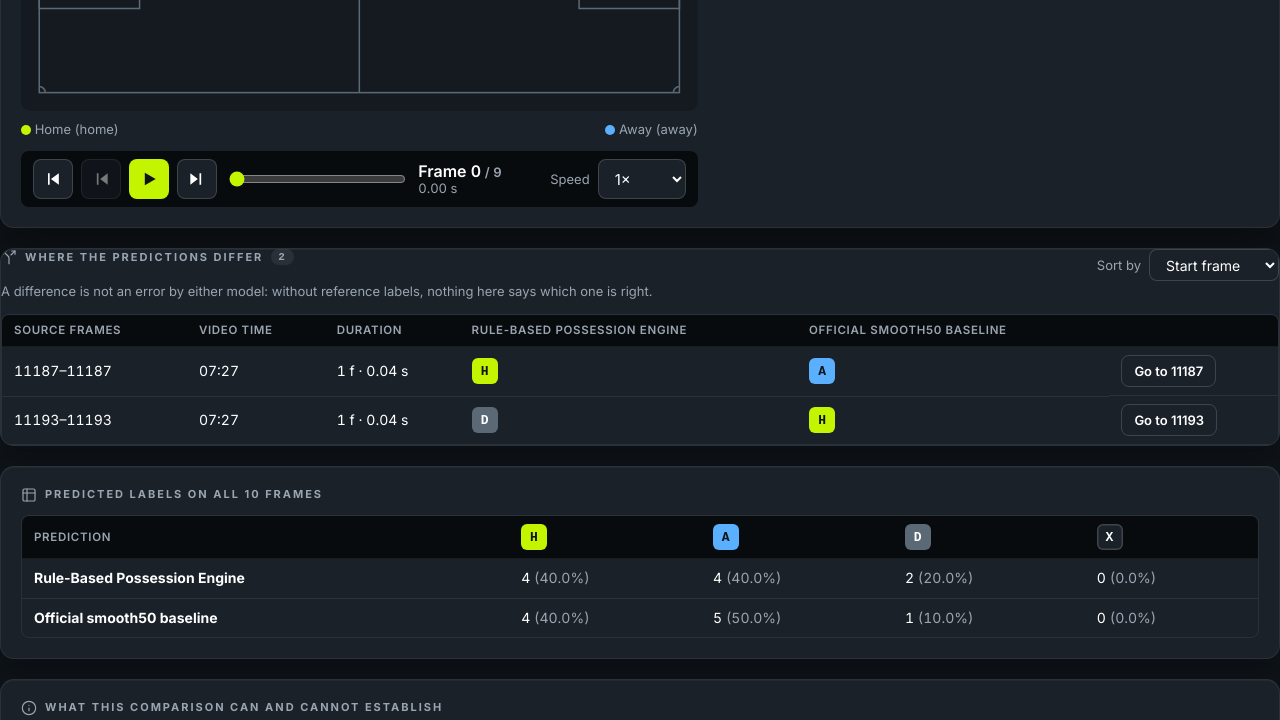
Test: local model-to-model comparison › compares the two predictions on the same frames without any accuracy or F1
(page scrolled)
Click the button with aria-label "Go to source frame 11193".
click(1169, 420)  # box x1=1121 y1=404 x2=1217 y2=436
(page scrolled)
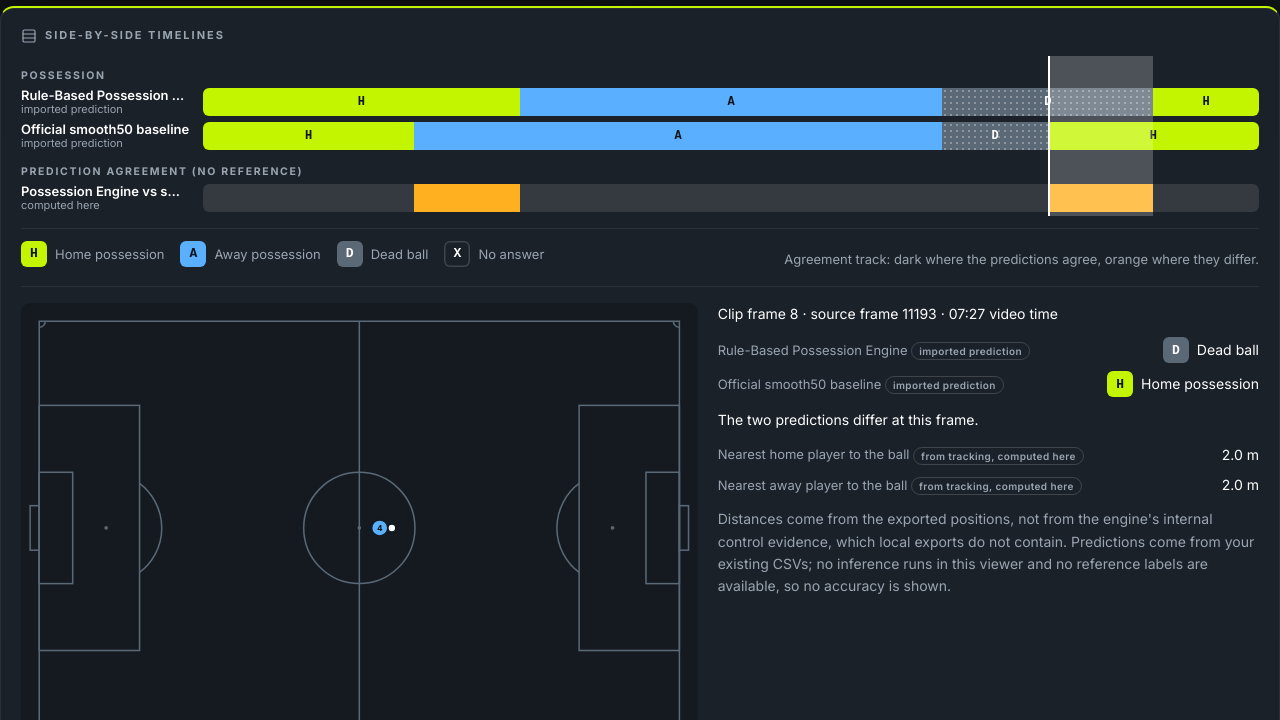
Now the element with test id "local-frame" shows "source frame 11193", box x1=718 y1=303 x2=1259 y2=598
Now the text with test id "local-pair-state" shows "differ", box x1=718 y1=411 x2=979 y2=428
